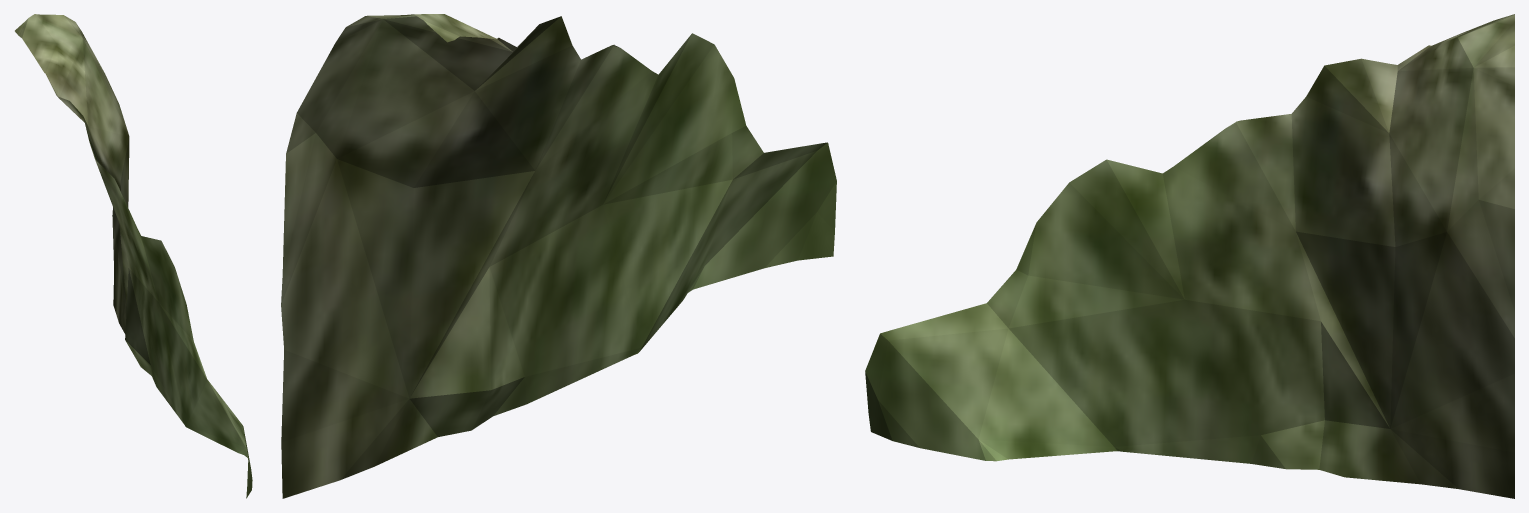
The picture shows the model from 3 angles, left to right: view 1: azimuth 30°, elevation 25°; view 2: azimuth 150°, elevation 25°; view 3: azimuth 270°, elevation 25°; orthographic projection. The views are drawn at different scales.
Bounding box in the file's own units: 0.3525 × 1.05 × 1.43.
1 material, 1 textured.
